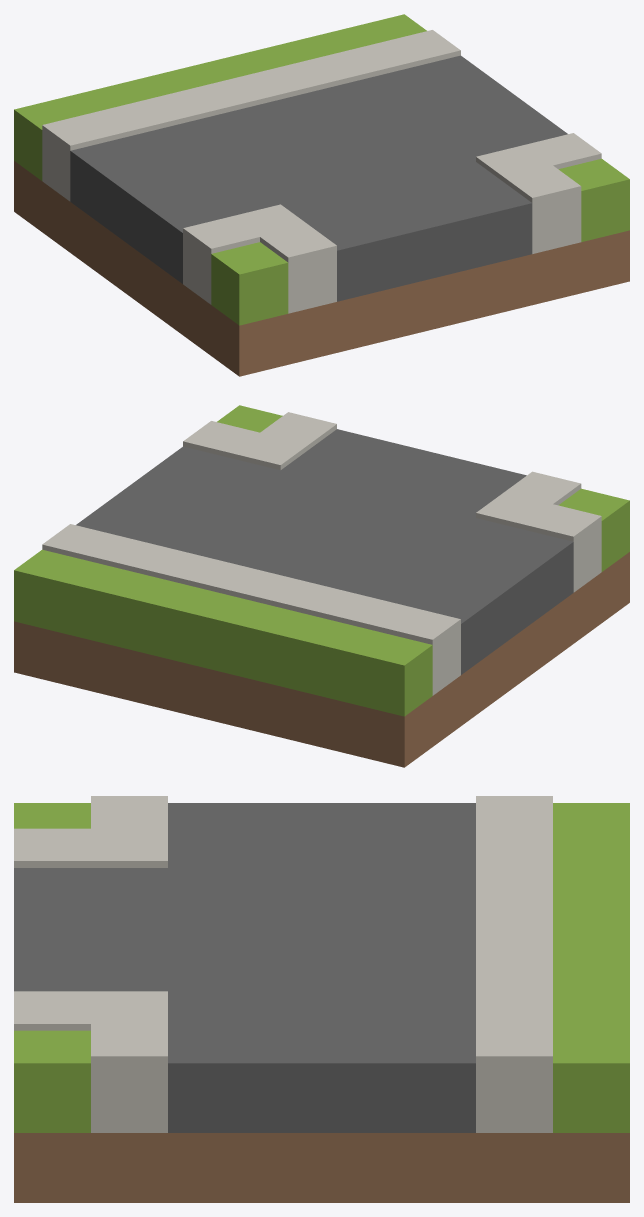
The model's file is road-tjunction-low.obj.
3 views of the same model, one above another, from view 1: azimuth 30°, elevation 25°; view 2: azimuth 150°, elevation 25°; view 3: azimuth 270°, elevation 25° (orthographic). The views are drawn at different scales.
Visible parts, largest first — view 1: road-tjunction-low_Cube.007; view 2: road-tjunction-low_Cube.007; view 3: road-tjunction-low_Cube.007.
Boxes of the visible parts, left/top/right/bottom form: road-tjunction-low_Cube.007: left=14, top=14, right=629, bottom=376; road-tjunction-low_Cube.007: left=14, top=405, right=629, bottom=767; road-tjunction-low_Cube.007: left=14, top=796, right=629, bottom=1202.
Size of the model in its own units: 8 by 2.1 by 8.
Materials: 1 (1 with a texture image).
